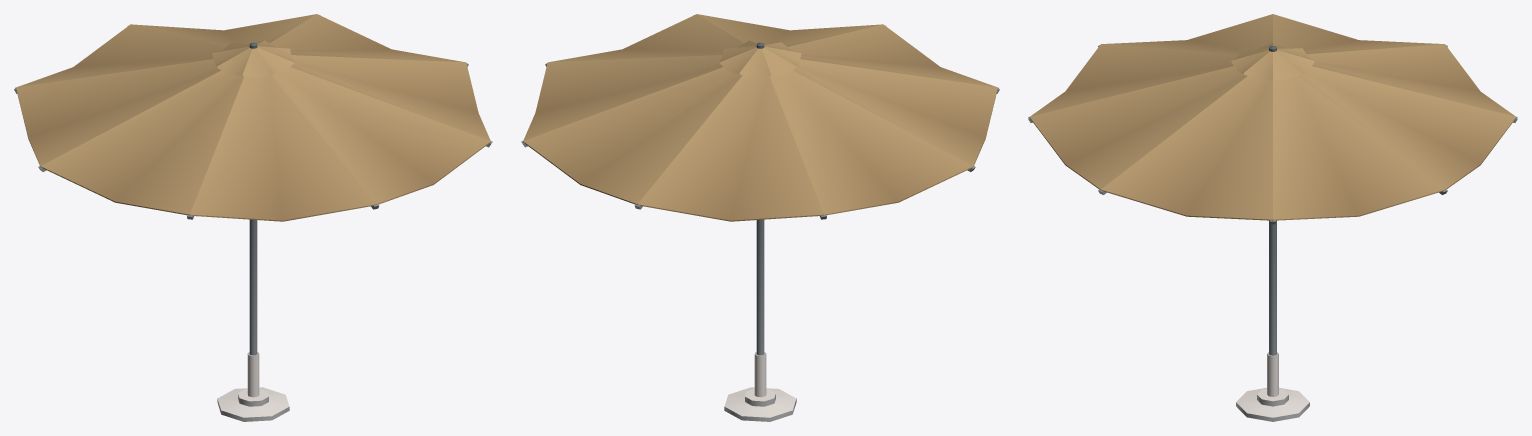
The model's file is Parasol_Regular.fbx.
3 views of the same model, side by side, from view 1: azimuth 30°, elevation 25°; view 2: azimuth 150°, elevation 25°; view 3: azimuth 270°, elevation 25° (orthographic).
Visible parts, largest first — view 1: Parasol_Regular; view 2: Parasol_Regular; view 3: Parasol_Regular.
Part boxes in pixels (bbox=[...]): Parasol_Regular: bbox=[14, 14, 492, 421]; Parasol_Regular: bbox=[521, 14, 999, 421]; Parasol_Regular: bbox=[1028, 14, 1517, 421].
Bounding box in the file's own units: 549 × 446 × 549.
